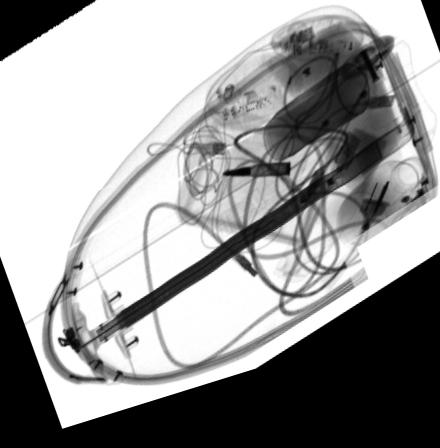Bullet: (221, 178, 290, 194)
